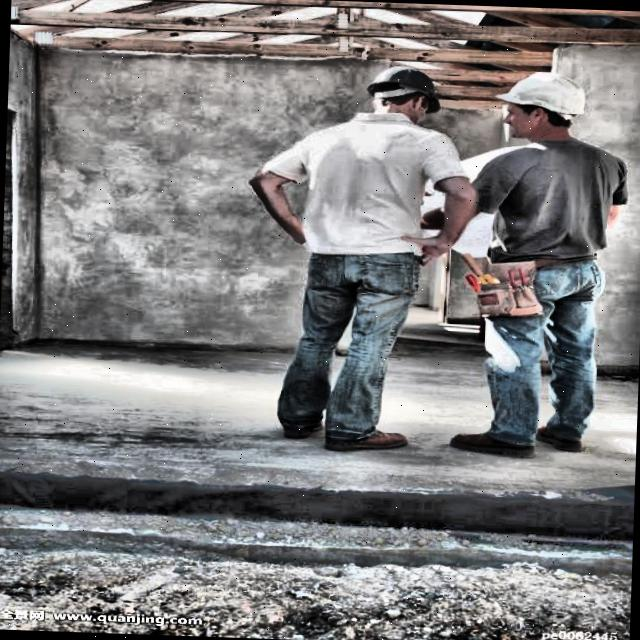helmet: (486, 56, 600, 154), (358, 62, 454, 131)
